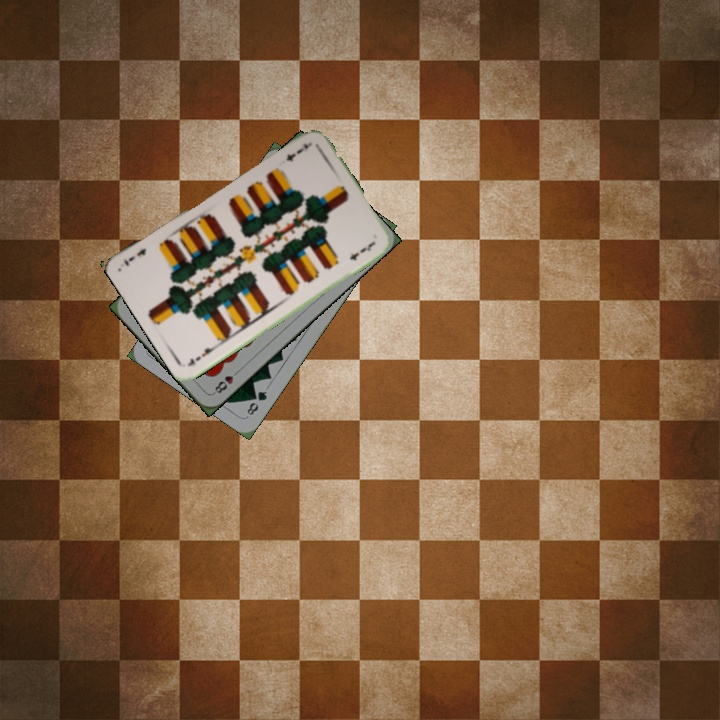E7: (183, 341, 220, 369), (282, 139, 314, 164)
G8: (243, 387, 270, 418)
H8: (209, 366, 242, 397)
